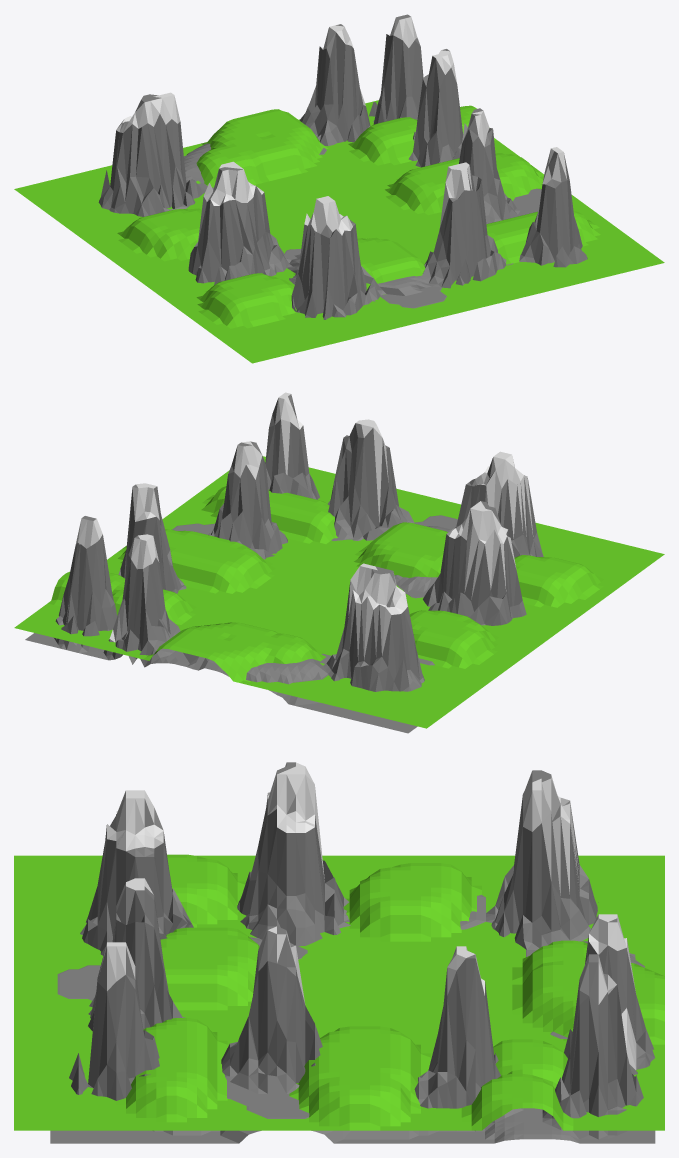
The model's file is Liam.fbx.
3 renders of one model, top to bottom at view 1: azimuth 30°, elevation 25°; view 2: azimuth 150°, elevation 25°; view 3: azimuth 270°, elevation 25°, orthographic. The views are drawn at different scales.
Parts seen in each view (by area): view 1: Plane.001, Plane; view 2: Plane.001, Plane; view 3: Plane.001, Plane.
Boxes of the visible parts, left/top/right/bottom form: Plane.001: left=14, top=100, right=664, bottom=363; Plane: left=98, top=14, right=587, bottom=319; Plane.001: left=14, top=456, right=664, bottom=728; Plane: left=25, top=392, right=543, bottom=733; Plane.001: left=14, top=854, right=664, bottom=1130; Plane: left=50, top=762, right=655, bottom=1143.
Bounding box in the file's own units: 6615 × 1765 × 6615.
